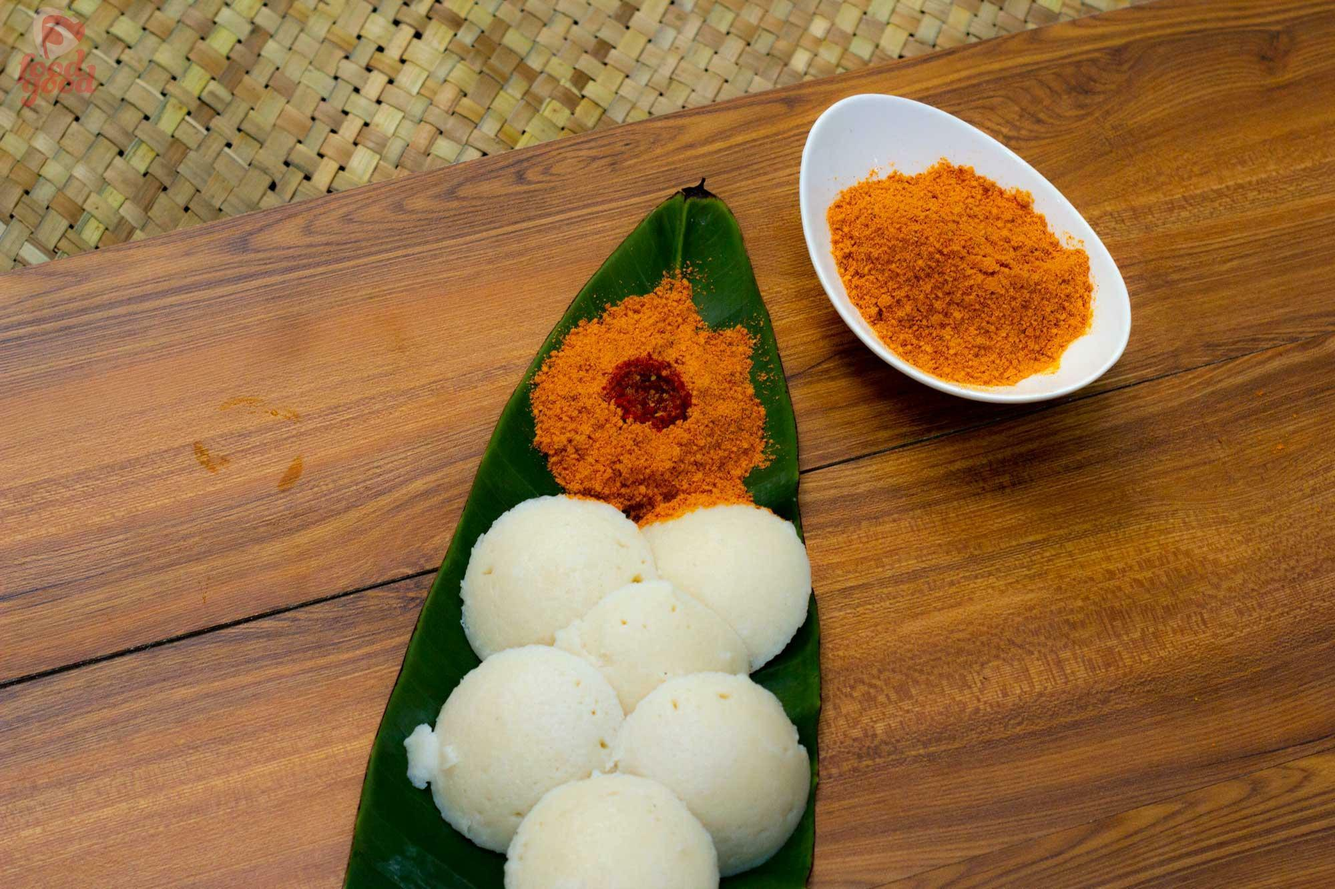Idli: (426, 650, 628, 861), (617, 677, 810, 879), (635, 495, 814, 685), (455, 501, 646, 644), (490, 773, 721, 889), (562, 581, 737, 695)
